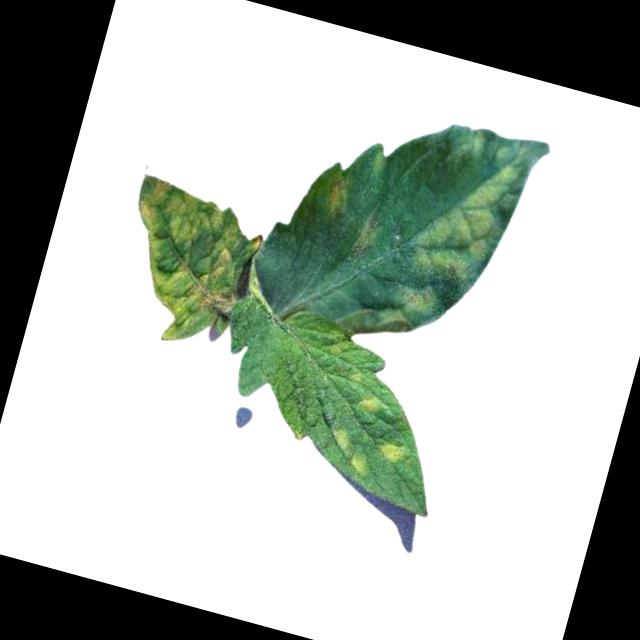Leaf_Mold: (370, 136, 516, 356), (99, 174, 270, 361), (323, 424, 377, 479), (321, 171, 352, 221), (377, 435, 406, 466), (352, 388, 381, 416)
